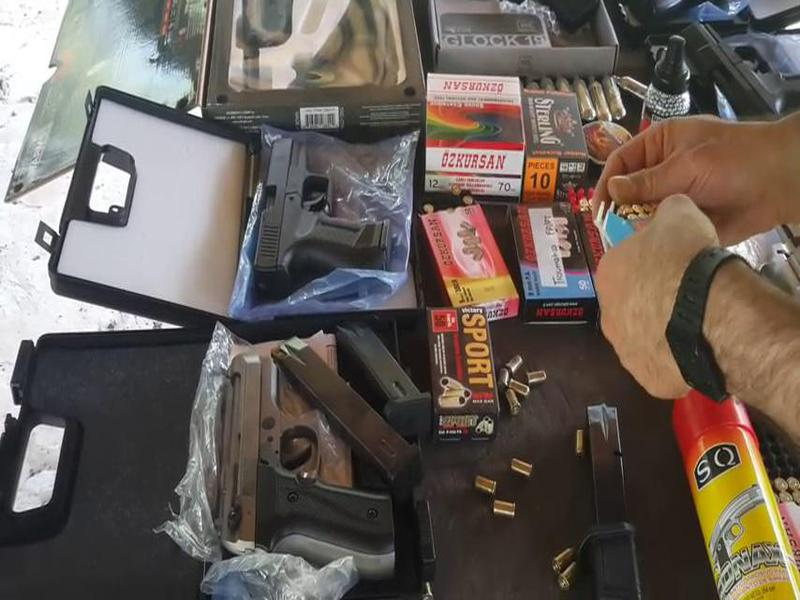Pistola: (141, 352, 410, 580), (241, 125, 384, 330)
